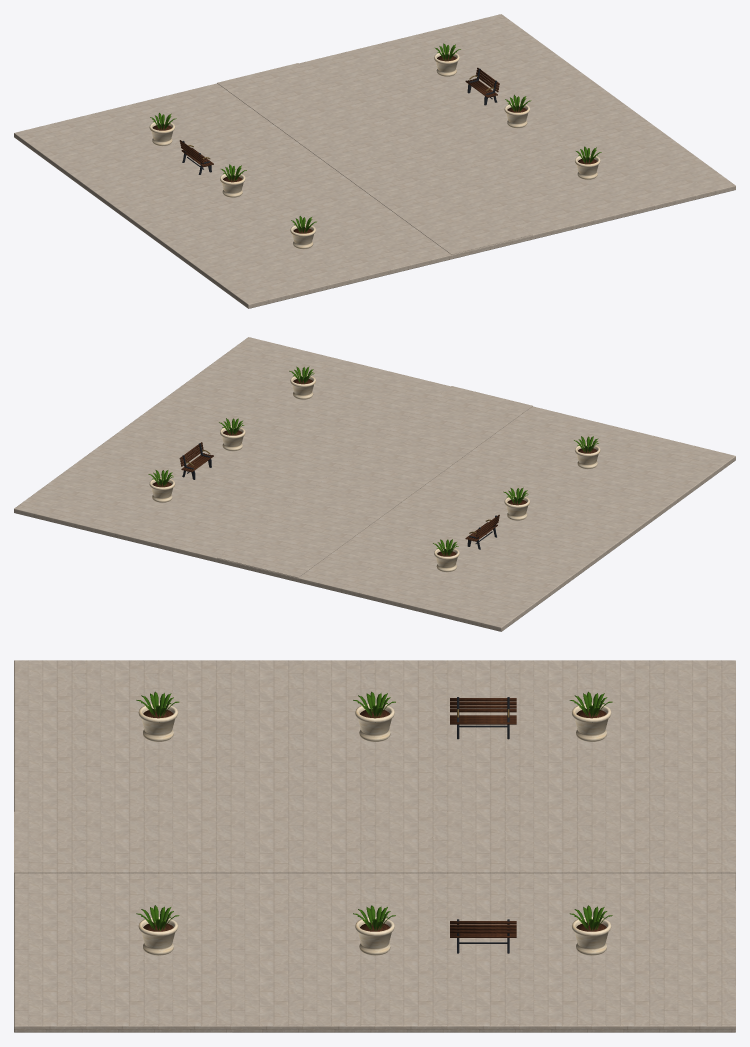
The model's file is finish_park_garden.glb.
The picture shows the model from 3 angles, top to bottom: view 1: azimuth 30°, elevation 25°; view 2: azimuth 150°, elevation 25°; view 3: azimuth 270°, elevation 25°; orthographic projection. The views are drawn at different scales.
Parts seen in each view (by area): view 1: Rebuilt_finish_park_garden; view 2: Rebuilt_finish_park_garden; view 3: Rebuilt_finish_park_garden.
Boxes of the visible parts, left/top/right/bottom form: Rebuilt_finish_park_garden: left=14, top=14, right=735, bottom=308; Rebuilt_finish_park_garden: left=14, top=337, right=735, bottom=631; Rebuilt_finish_park_garden: left=14, top=660, right=735, bottom=1032.
Bounding box in the file's own units: 24 × 1.35 × 20.
Materials: 6 (6 with a texture image).
